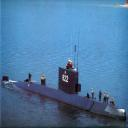submarine: (3, 62, 128, 122)
